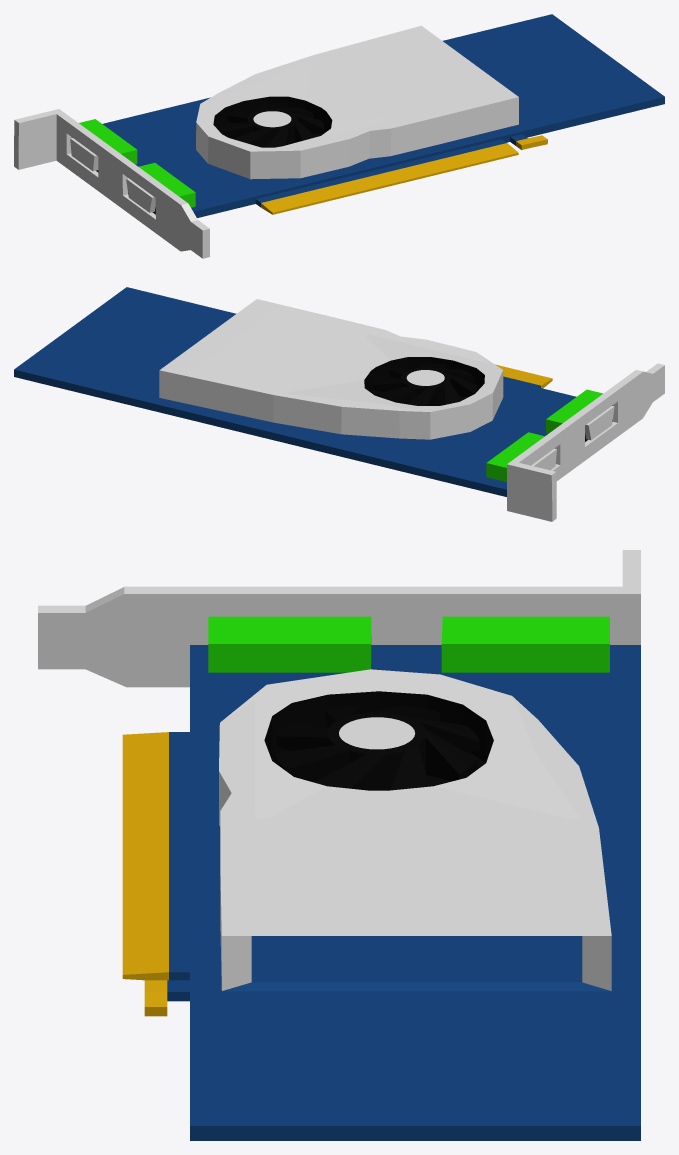
File: geforce7800.fbx
3 renders of one model, top to bottom at view 1: azimuth 30°, elevation 25°; view 2: azimuth 150°, elevation 25°; view 3: azimuth 270°, elevation 25°, orthographic. The views are drawn at different scales.
Parts seen in each view (by area): view 1: Plane.001, Cylinder; view 2: Plane.001, Cylinder; view 3: Plane.001, Cylinder.
Boxes of the visible parts, <box> form: Plane.001: <box>14,14,664,258</box>; Cylinder: <box>220,104,324,147</box>; Plane.001: <box>14,287,664,521</box>; Cylinder: <box>373,363,477,405</box>; Plane.001: <box>38,550,640,1140</box>; Cylinder: <box>274,704,480,790</box>.
Size of the model in its own units: 169 by 14.65 by 82.14.
